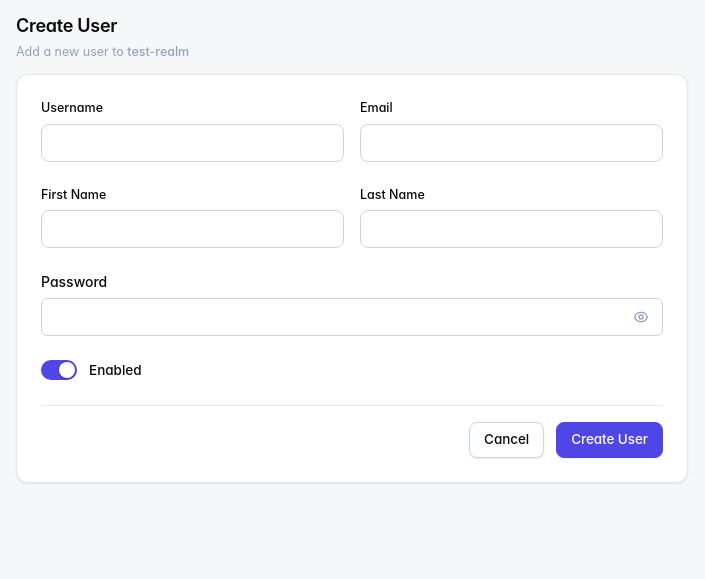
Scenario: UserCreatePage › shows an error message when the API returns an error
Type "taken" into the field labelled "Username". click: (192, 142)
box: [42,124,343,160]
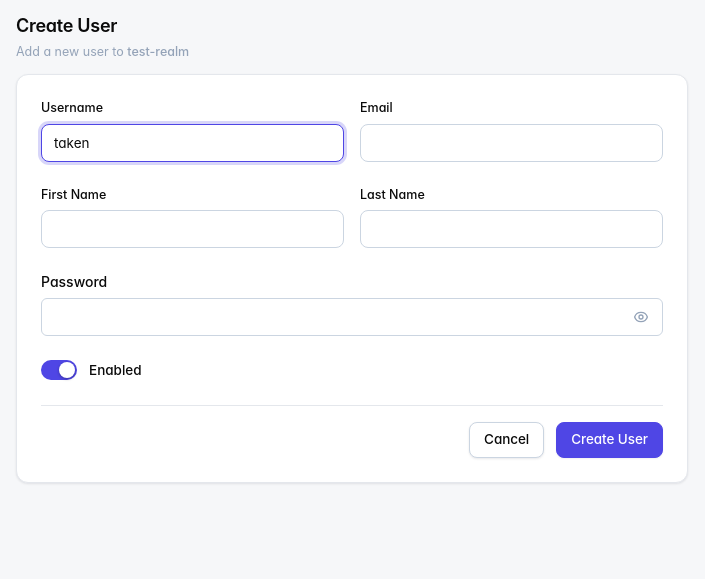
Type "pass" into the password field labelled "Password". click: (352, 317)
box: [41,298,663,336]
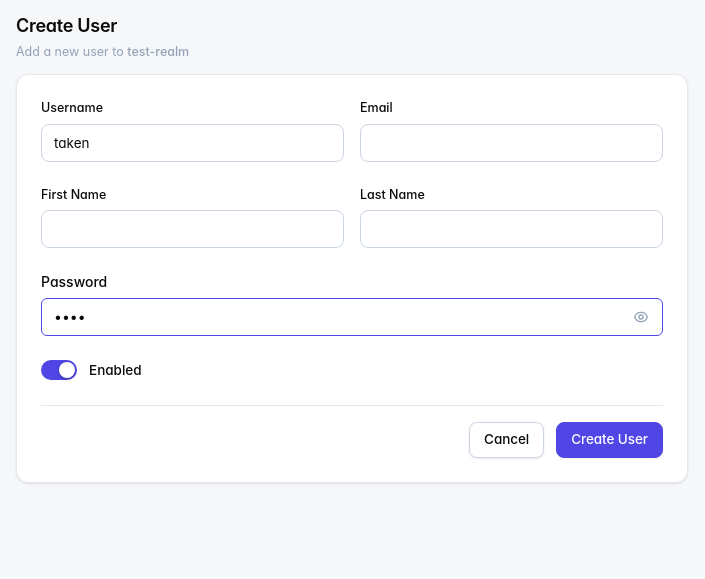
Click the button "Create User". click: (610, 440)
box: [556,422,663,458]
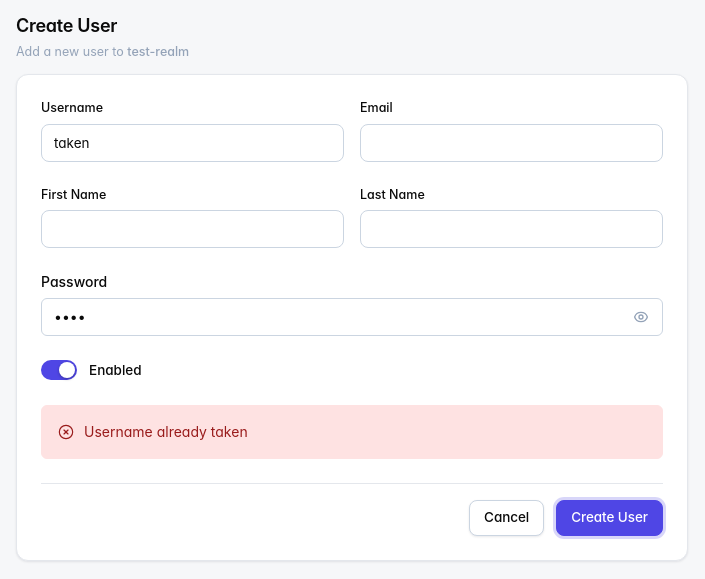
expect the text "Username already taken" is shown: met, box [84,422,248,440]
